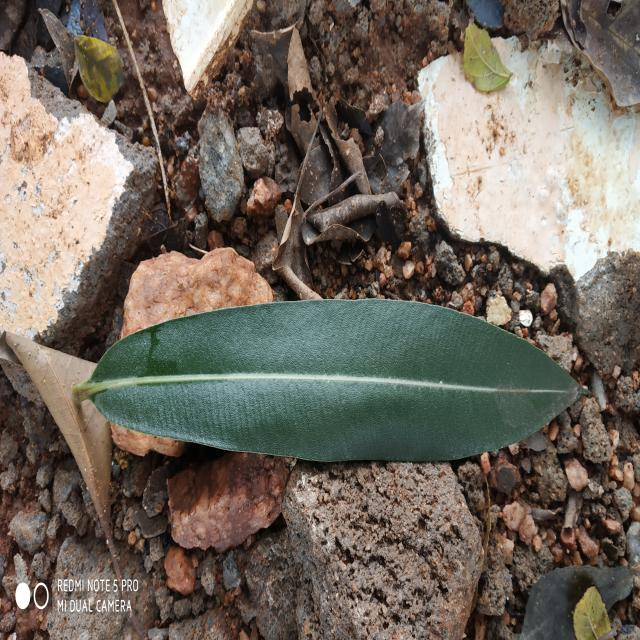ganigale: (75, 300, 585, 462)
